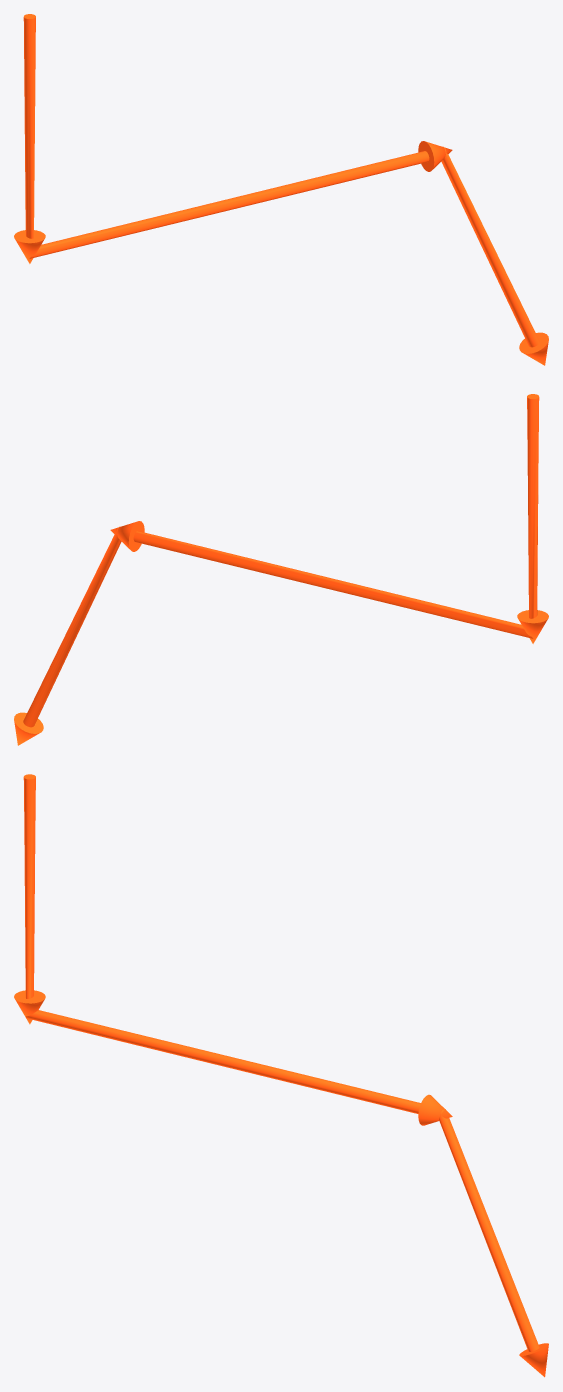
Rendered from apron_feeder_flow.glb.
3 views of the same model, one above another, from view 1: azimuth 30°, elevation 25°; view 2: azimuth 150°, elevation 25°; view 3: azimuth 330°, elevation 25° (orthographic).
Parts seen in each view (by area): view 1: material; view 2: material; view 3: material.
Part boxes in pixels (x1,y1,x2,y2): material: (14,14,548,365); material: (14,394,548,745); material: (14,774,548,1377).
Size of the model in its own units: 1.99 by 1.71 by 0.104.
